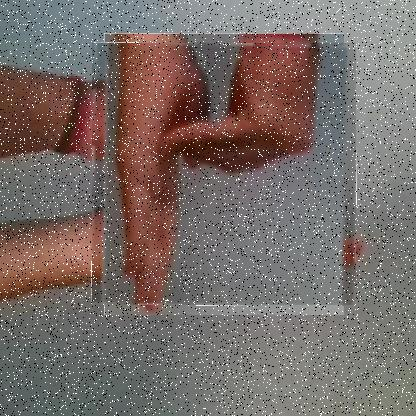Z: (92, 43, 357, 306)
